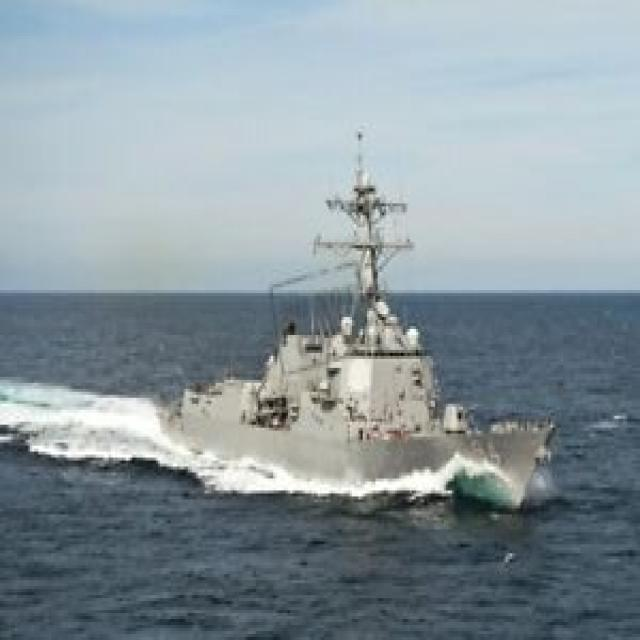navalvessels: (190, 151, 541, 518)
